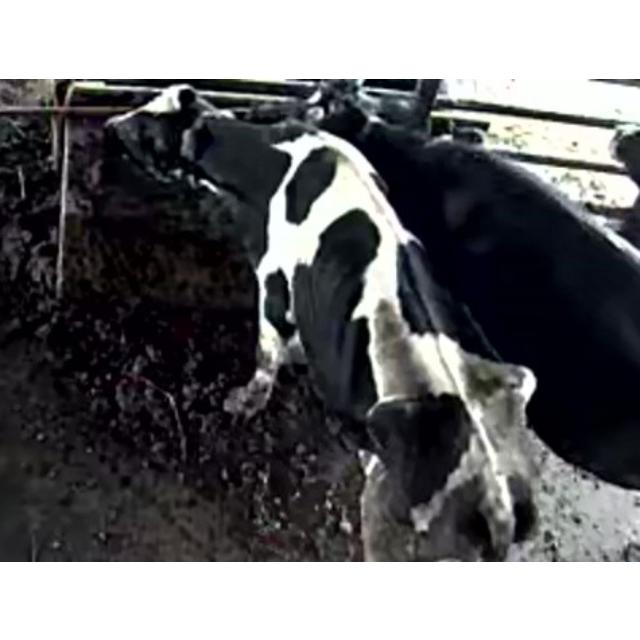drink: (268, 78, 474, 208)
